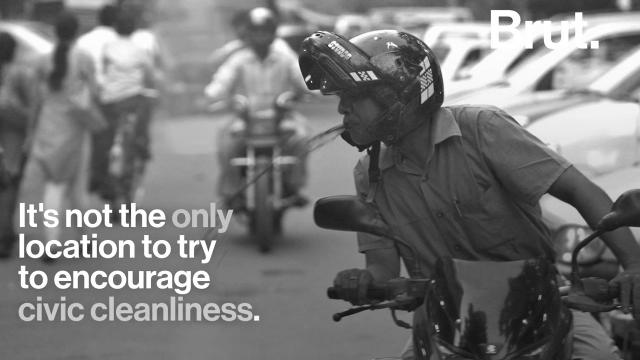spit: (207, 91, 387, 236)
